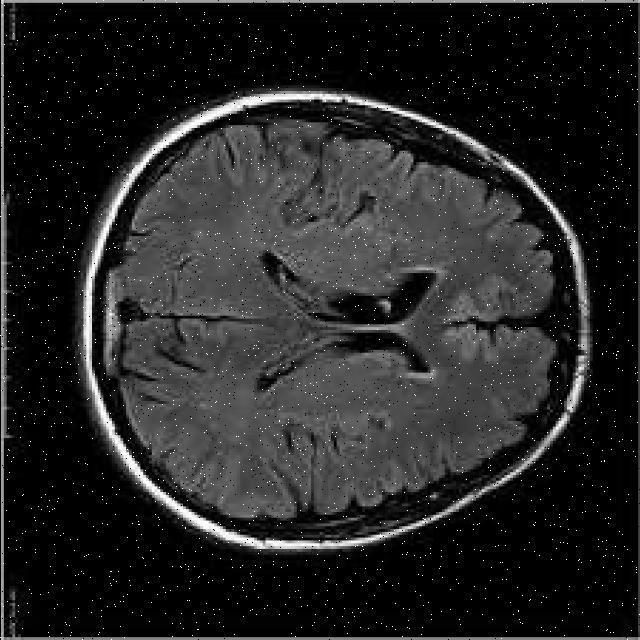No_Tumor: (78, 91, 591, 553)
